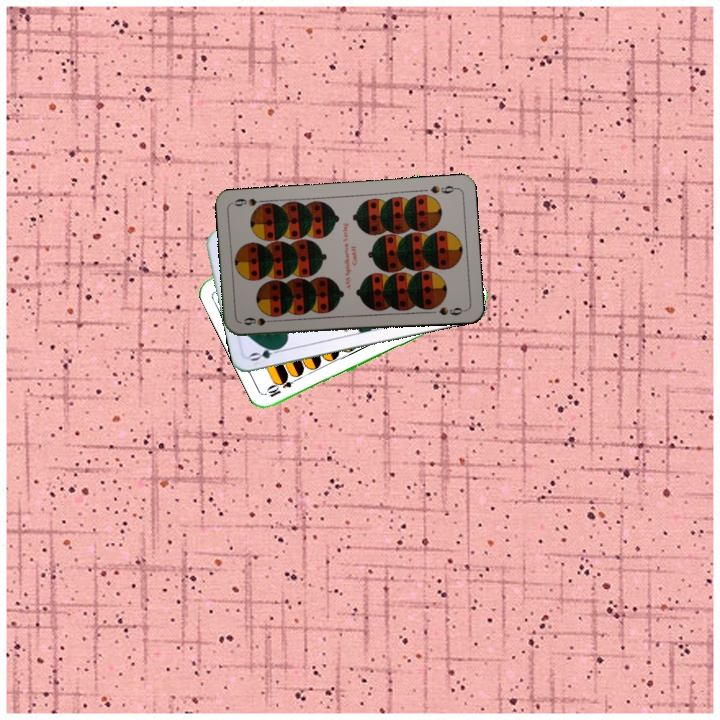E10: (263, 372, 302, 400)
GO: (246, 342, 286, 364)
S9: (240, 313, 279, 328), (426, 181, 459, 196)
